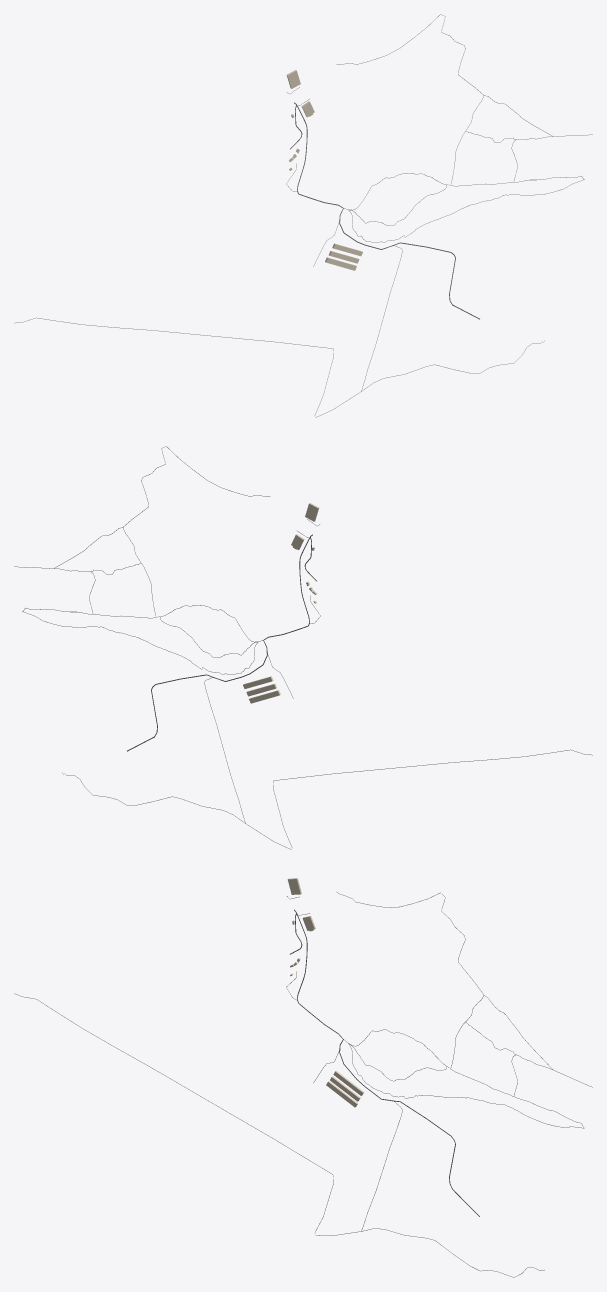
The model's file is historic-palestine-09_33_3512_3278.glb.
The picture shows the model from 3 angles, top to bottom: view 1: azimuth 30°, elevation 25°; view 2: azimuth 150°, elevation 25°; view 3: azimuth 330°, elevation 25°; orthographic projection.
Visible parts, largest first — view 1: Road .007; view 2: Road .007; view 3: Road .007.
Part boxes in pixels (<box>): Road .007: <box>14,317,544,417</box>; Road .007: <box>62,749,592,849</box>; Road .007: <box>14,993,544,1277</box>.
Size of the model in its own units: 2281 by 1405 by 8.7.
